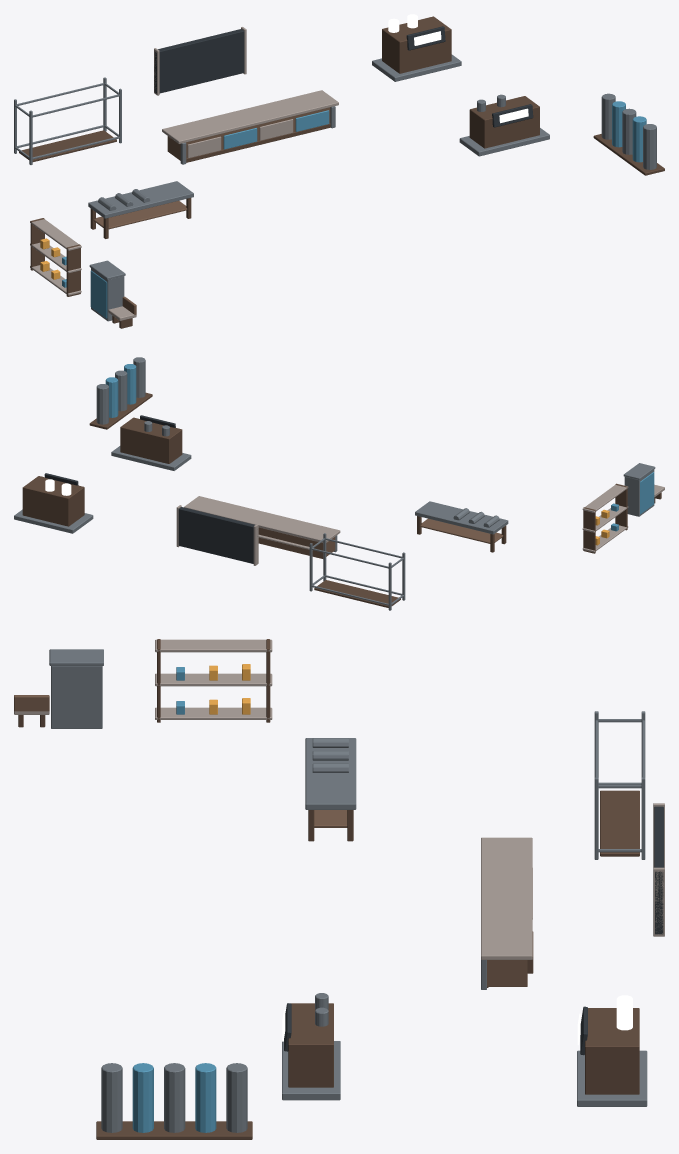
Rendered from ashline_containment_works.lod1.glb.
3 views of the same model, one above another, from view 1: azimuth 30°, elevation 25°; view 2: azimuth 150°, elevation 25°; view 3: azimuth 270°, elevation 25° (orthographic). The views are drawn at different scales.
Size of the model in its own units: 25.85 by 2.76 by 16.66.
